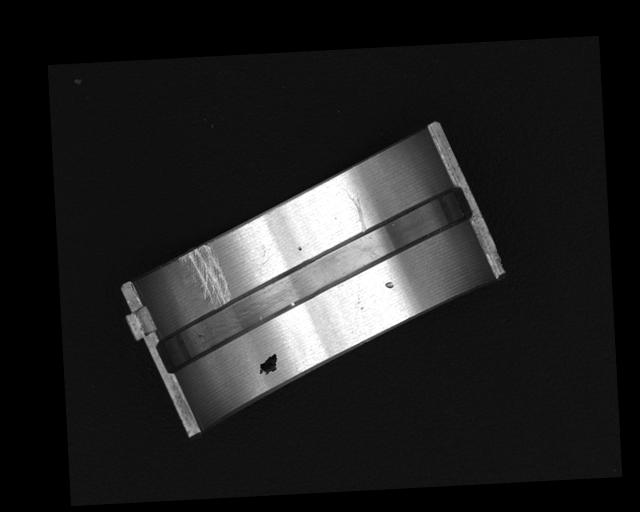blot: (256, 352, 279, 375)
bruise: (384, 280, 394, 289), (297, 246, 302, 253)
gap: (151, 185, 481, 373)
nick: (346, 189, 366, 233)
scratch: (178, 243, 230, 307)
